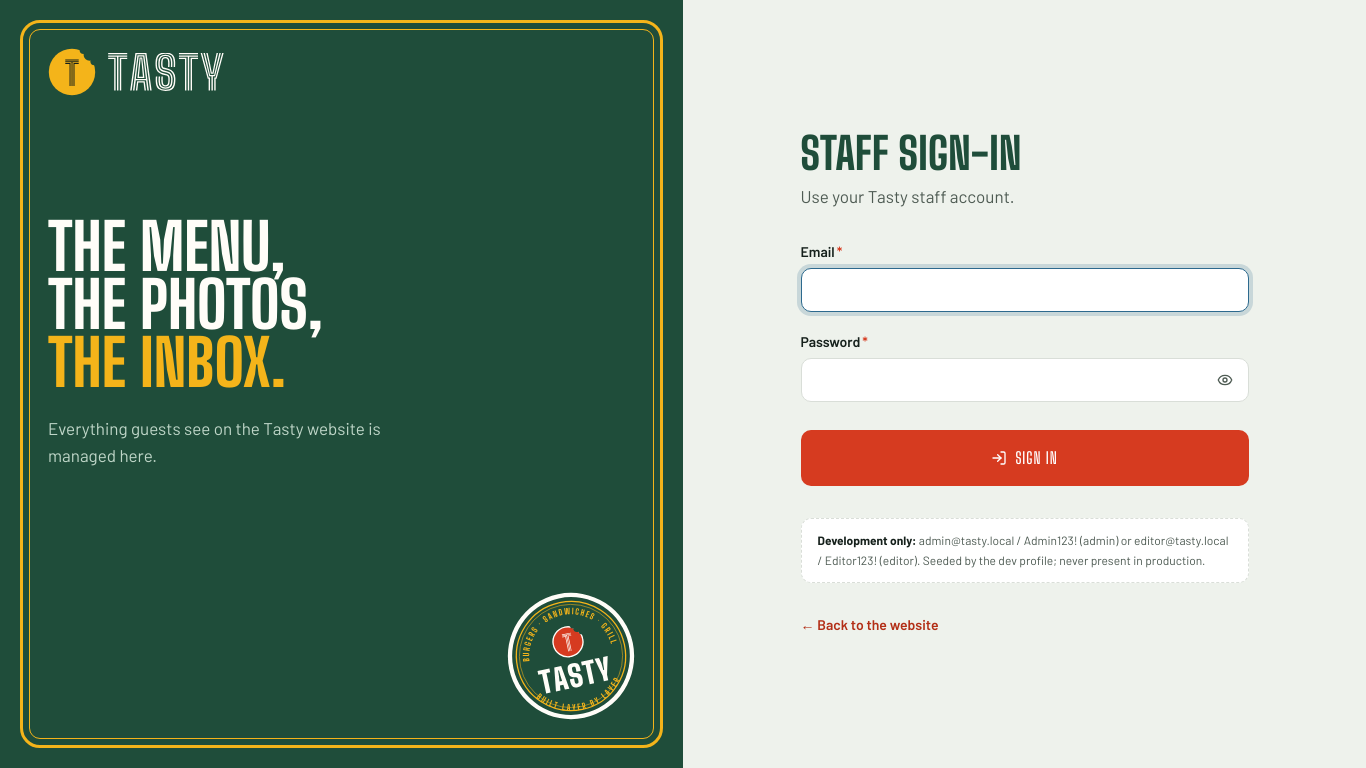
Test: Admin login › shows the server message when the credentials are wrong
The image size is (1366, 768).
Type "admin@tasty.local" into the field labelled "Email*" at x=1024, y=290, box [800, 268, 1248, 312]
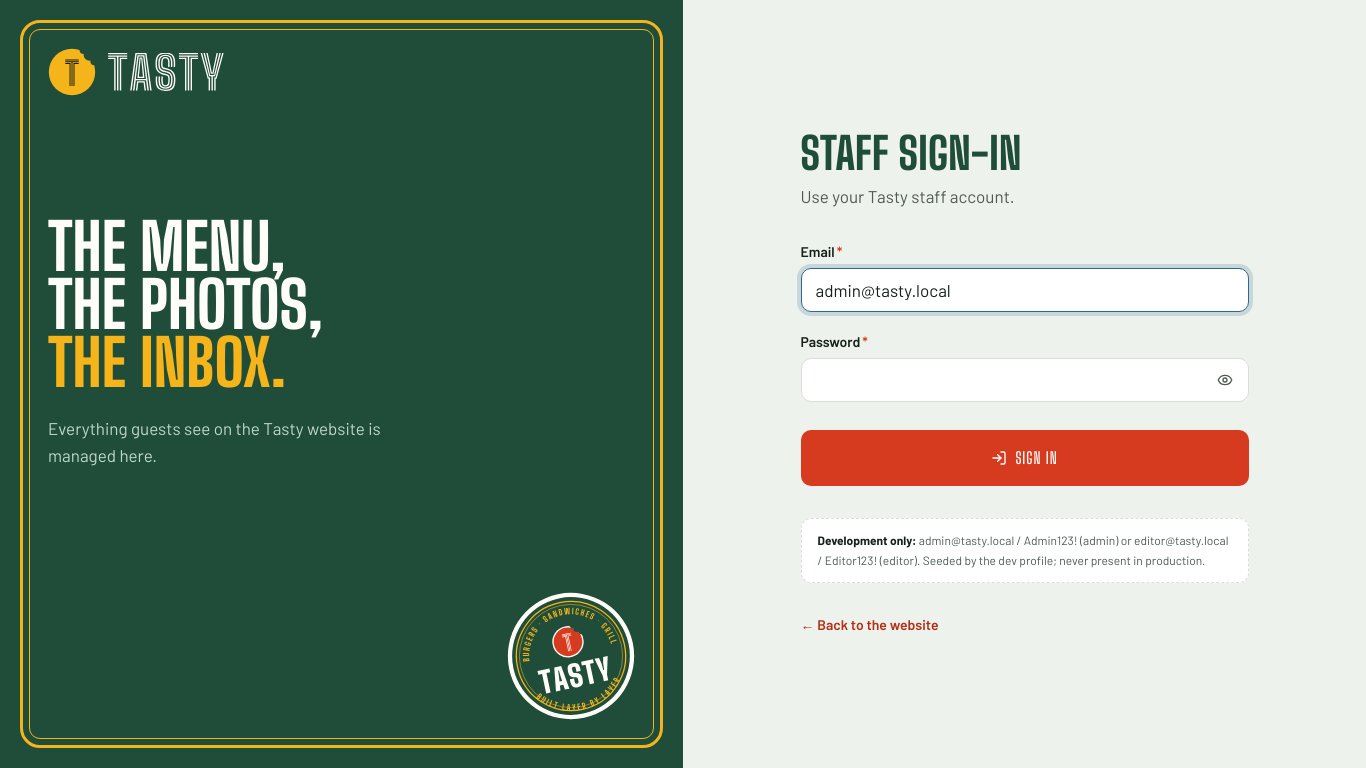
Type "nope" into the password field labelled "Password*" at x=1024, y=380, box [800, 358, 1248, 402]
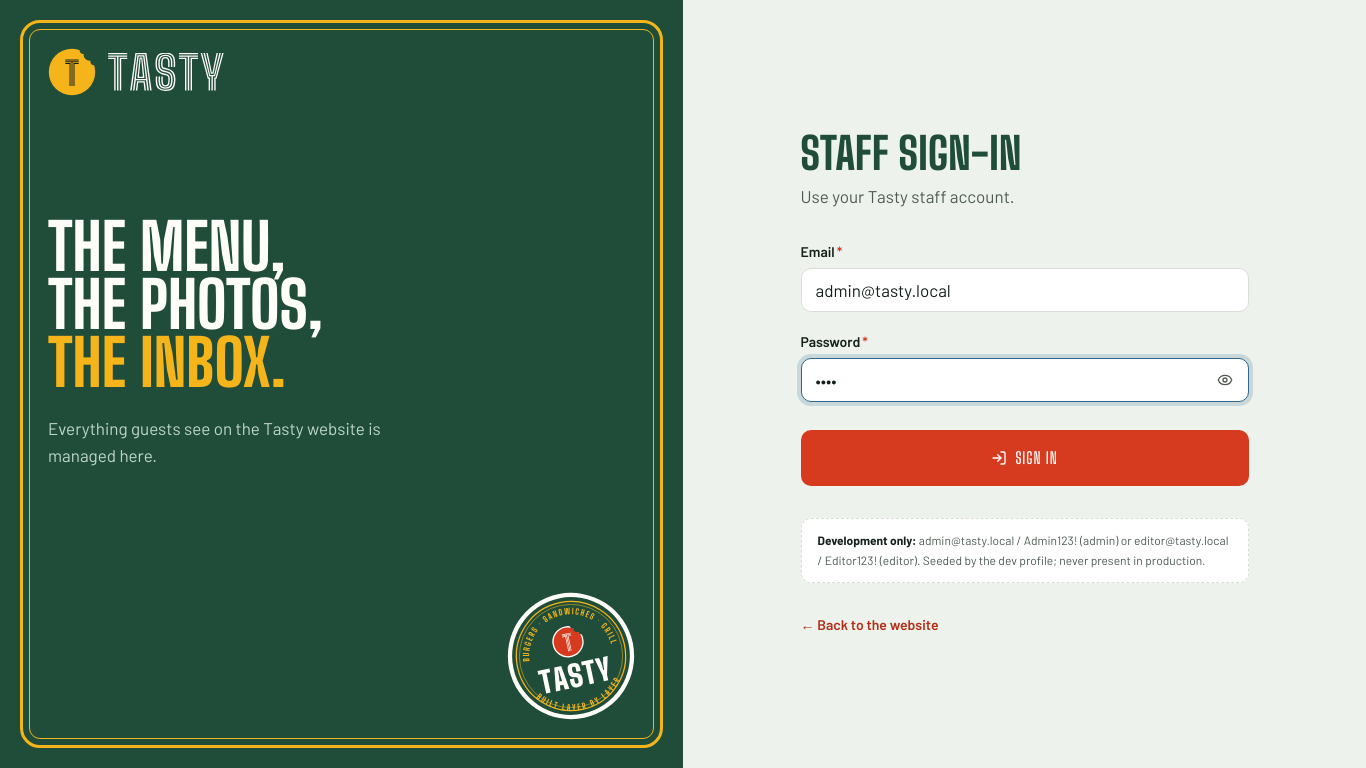
Click the button "Sign in" at x=1024, y=458, box [800, 430, 1248, 486]
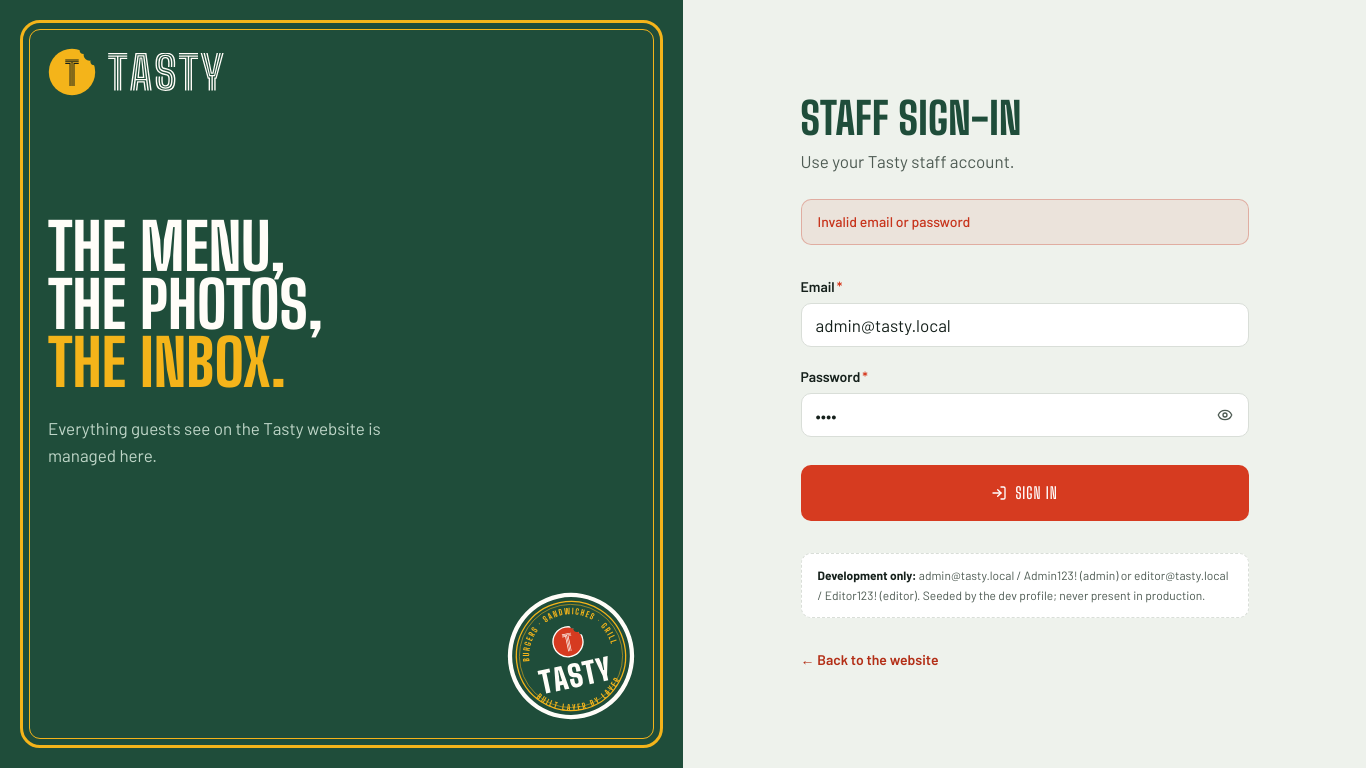
Check: the message reads "Invalid email or password", box [818, 213, 970, 230]
